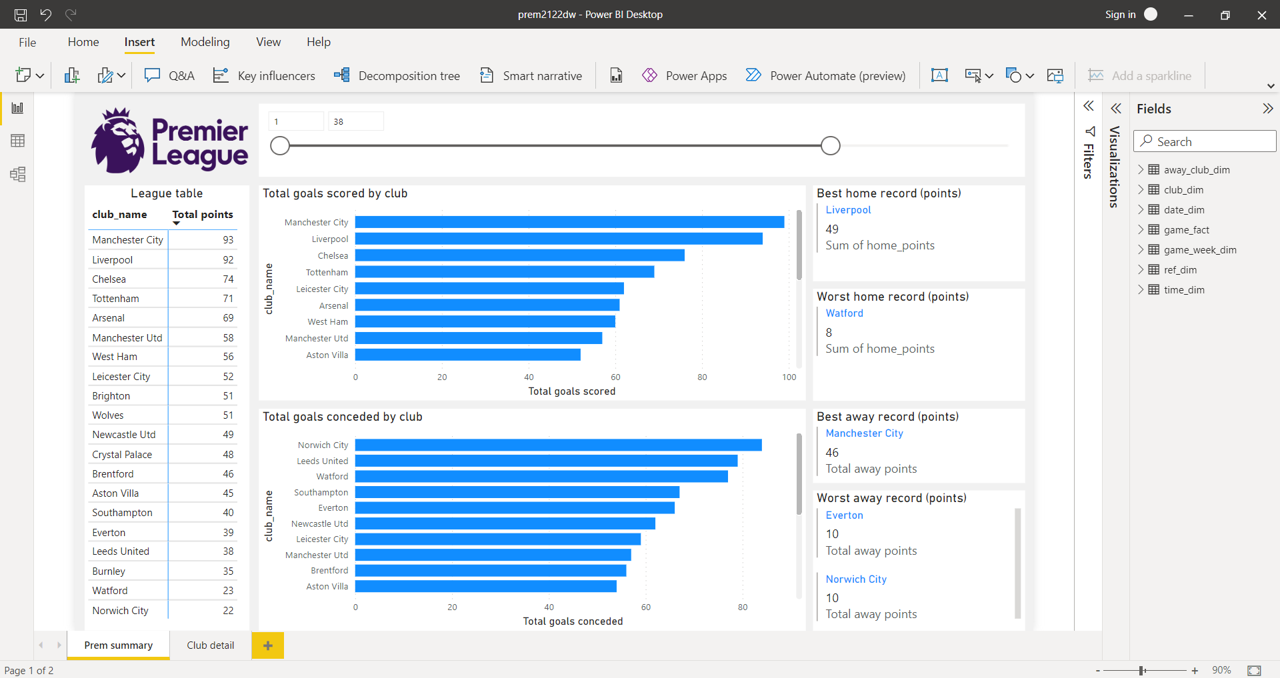

Layout of this report page (visuals, bound fields, positions):
{"tool":"powerbi","page":{"name":"Prem  summary","canvas":[1280,720],"ordinal":0},"visuals":[{"type":"pivotTable","title":"League table","fields":{"Values":["game_fact.Total points"],"Rows":["club_dim.club_name"]},"box":[13.7,125,219.7,594.7],"z":0},{"type":"slicer","fields":{"Values":["game_week_dim.game_week"]},"box":[245.8,15.1,1023.2,97.5],"z":1000},{"type":"clusteredBarChart","title":"Total goals scored by club","fields":{"Category":["club_dim.club_name"],"Y":["game_fact.Total goals scored"]},"box":[245.8,125,730.6,287],"z":2000},{"type":"clusteredBarChart","title":"Total goals conceded by club","fields":{"Category":["club_dim.club_name"],"Y":["game_fact.Total goals conceded"]},"box":[245.8,423,730.6,296.7],"z":3000},{"type":"multiRowCard","title":"Best home record (points)","fields":{"Values":["club_dim.club_name","Sum(game_fact.home_points)"]},"box":[986.1,125,282.9,127.7],"z":4000},{"type":"multiRowCard","title":"Worst home record (points)","fields":{"Values":["Sum(game_fact.home_points)","club_dim.club_name"]},"box":[986.1,262.3,282.9,149.7],"z":5000},{"type":"multiRowCard","title":"Best away record (points)","fields":{"Values":["game_fact.Total away points","club_dim.club_name"]},"box":[986.1,423,282.9,98.9],"z":6000},{"type":"multiRowCard","title":"Worst away record (points)","fields":{"Values":["game_fact.Total away points","club_dim.club_name"]},"box":[986.1,531.5,282.9,188.2],"z":7000},{"type":"image","box":[13.7,15.1,226.6,97.5],"z":7001}]}

Visuals, with their boxes on the page's 1280x720 design canvas (x1, y1, x2, y2). These are canvas units, not pixel positions in the 1280x678 screenshot, which may show the page scaled, cropped or inside an application window:
"League table" pivotTable: <region>14, 125, 233, 720</region>
slicer - game_week_dim.game_week: <region>246, 15, 1269, 113</region>
"Total goals scored by club" clusteredBarChart: <region>246, 125, 976, 412</region>
"Total goals conceded by club" clusteredBarChart: <region>246, 423, 976, 720</region>
"Best home record (points)" multiRowCard: <region>986, 125, 1269, 253</region>
"Worst home record (points)" multiRowCard: <region>986, 262, 1269, 412</region>
"Best away record (points)" multiRowCard: <region>986, 423, 1269, 522</region>
"Worst away record (points)" multiRowCard: <region>986, 532, 1269, 720</region>
image: <region>14, 15, 240, 113</region>
